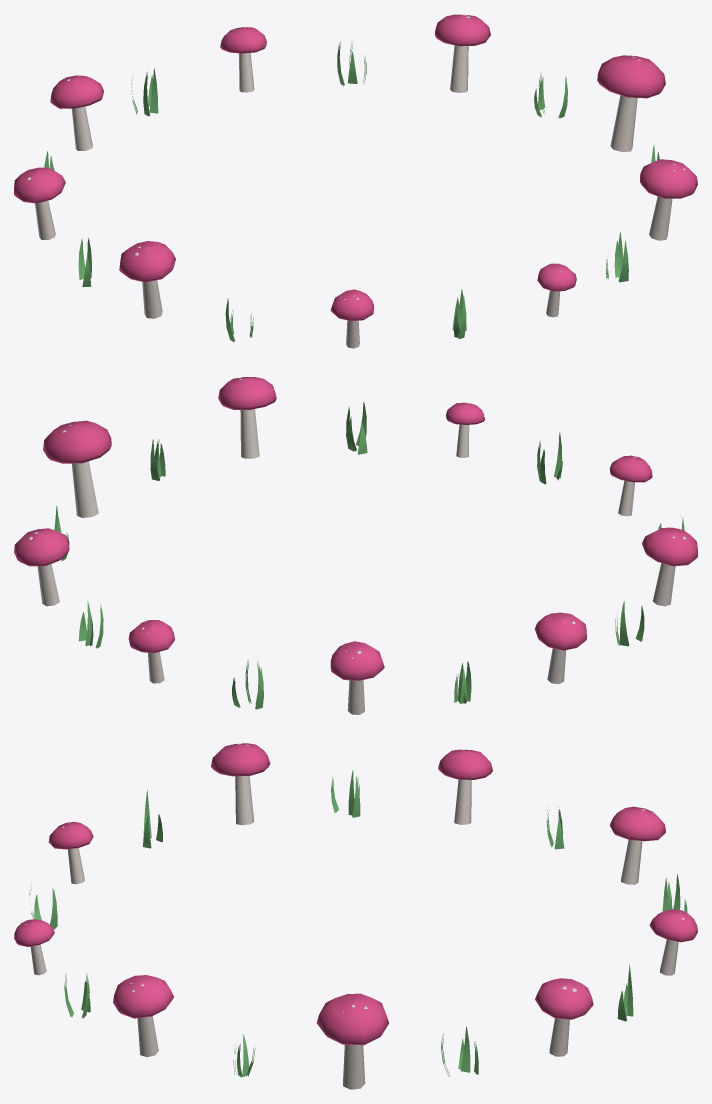
The model's file is flora_toadstool_ring.gltf.
3 views of the same model, one above another, from view 1: azimuth 30°, elevation 25°; view 2: azimuth 150°, elevation 25°; view 3: azimuth 270°, elevation 25° (orthographic). The views are drawn at different scales.
Visible parts, largest first — view 1: flora_toadstool_ring; view 2: flora_toadstool_ring; view 3: flora_toadstool_ring.
Part boxes in pixels (x1,y1,x2,y2): flora_toadstool_ring: (14, 14, 697, 348); flora_toadstool_ring: (14, 377, 697, 714); flora_toadstool_ring: (14, 743, 697, 1089).
Size of what is drawn, in the model's own units: 1.54 by 0.2174 by 1.5.
